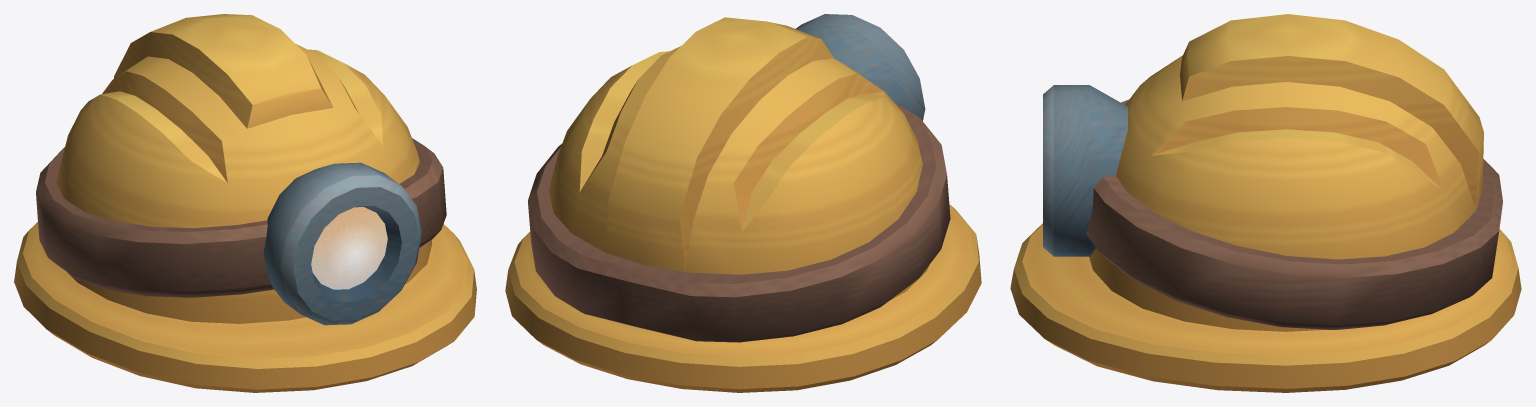
Rendered from Mining_Helmet.glb.
3 renders of one model, left to right at view 1: azimuth 30°, elevation 25°; view 2: azimuth 150°, elevation 25°; view 3: azimuth 270°, elevation 25°, orthographic. The views are drawn at different scales.
Visible parts, largest first — view 1: mining_helmet; view 2: mining_helmet; view 3: mining_helmet.
Part boxes in pixels (left/top/right/bottom): mining_helmet: left=14, top=14, right=476, bottom=392; mining_helmet: left=505, top=14, right=981, bottom=392; mining_helmet: left=1010, top=14, right=1521, bottom=392.
Size of the model in its own units: 1.21 by 0.7615 by 1.31.
Materials: 2 (2 with a texture image).
